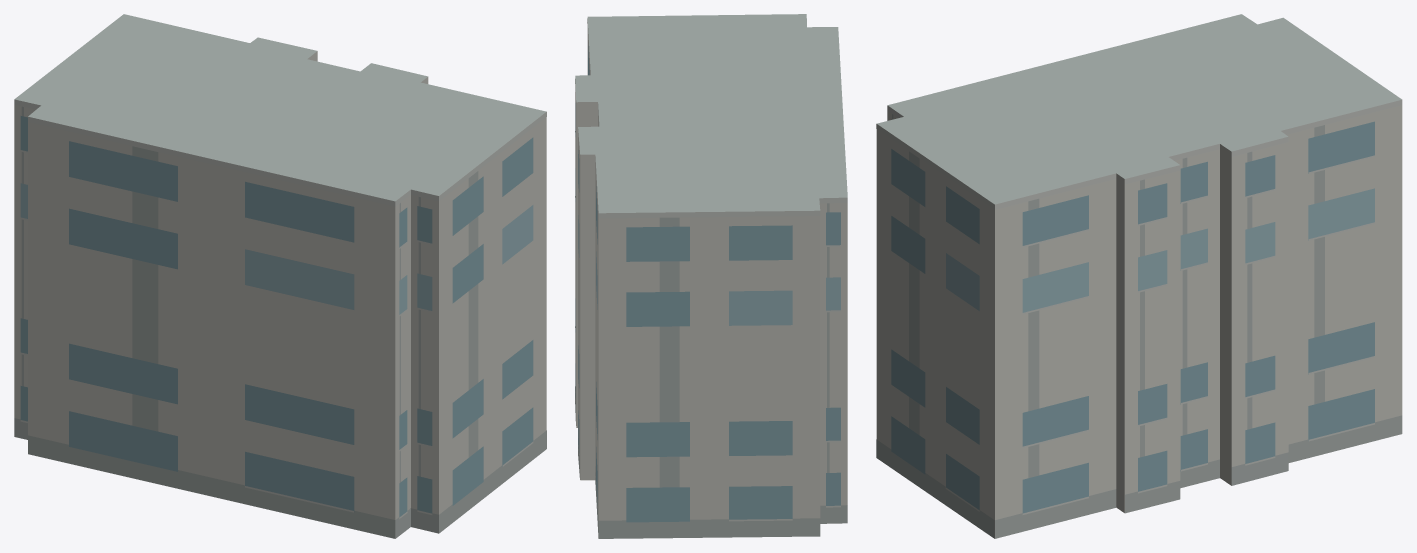
Rendered from survey-upis-32768778.glb.
3 views of the same model, side by side, from view 1: azimuth 30°, elevation 25°; view 2: azimuth 150°, elevation 25°; view 3: azimuth 270°, elevation 25° (orthographic). The views are drawn at different scales.
Parts seen in each view (by area): view 1: survey-upis-32768778.tmp; view 2: survey-upis-32768778.tmp; view 3: survey-upis-32768778.tmp.
Part boxes in pixels (bbox=[...]): survey-upis-32768778.tmp: bbox=[14, 14, 546, 538]; survey-upis-32768778.tmp: bbox=[575, 14, 847, 538]; survey-upis-32768778.tmp: bbox=[876, 14, 1402, 538].
Bounding box in the file's own units: 18.47 × 15.1 × 21.53.
